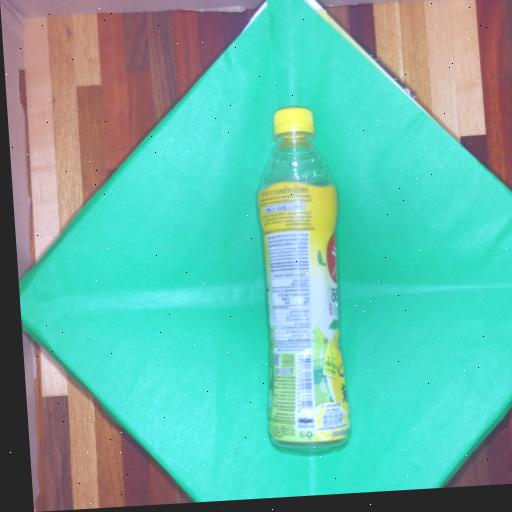bottle: (241, 88, 363, 480)
